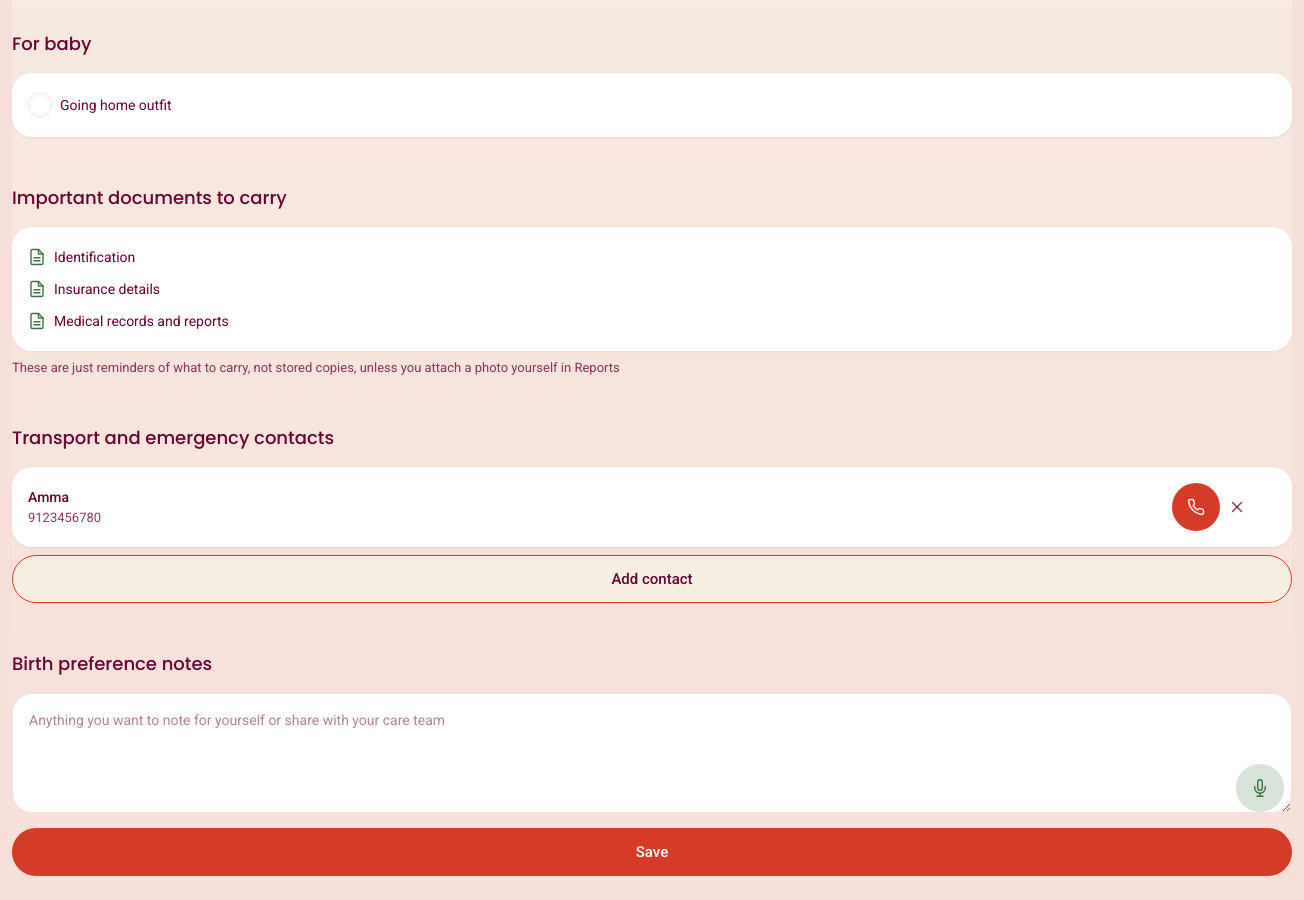
PrepChecklist › saves birth notes and shows a saved confirmation
(page scrolled)
Replace the text in the text box with placeholder "Anything you want to note for yourself or share with your care team" with "Would like skin-to-skin right after birth." at (652, 753), box x1=12 y1=693 x2=1292 y2=813
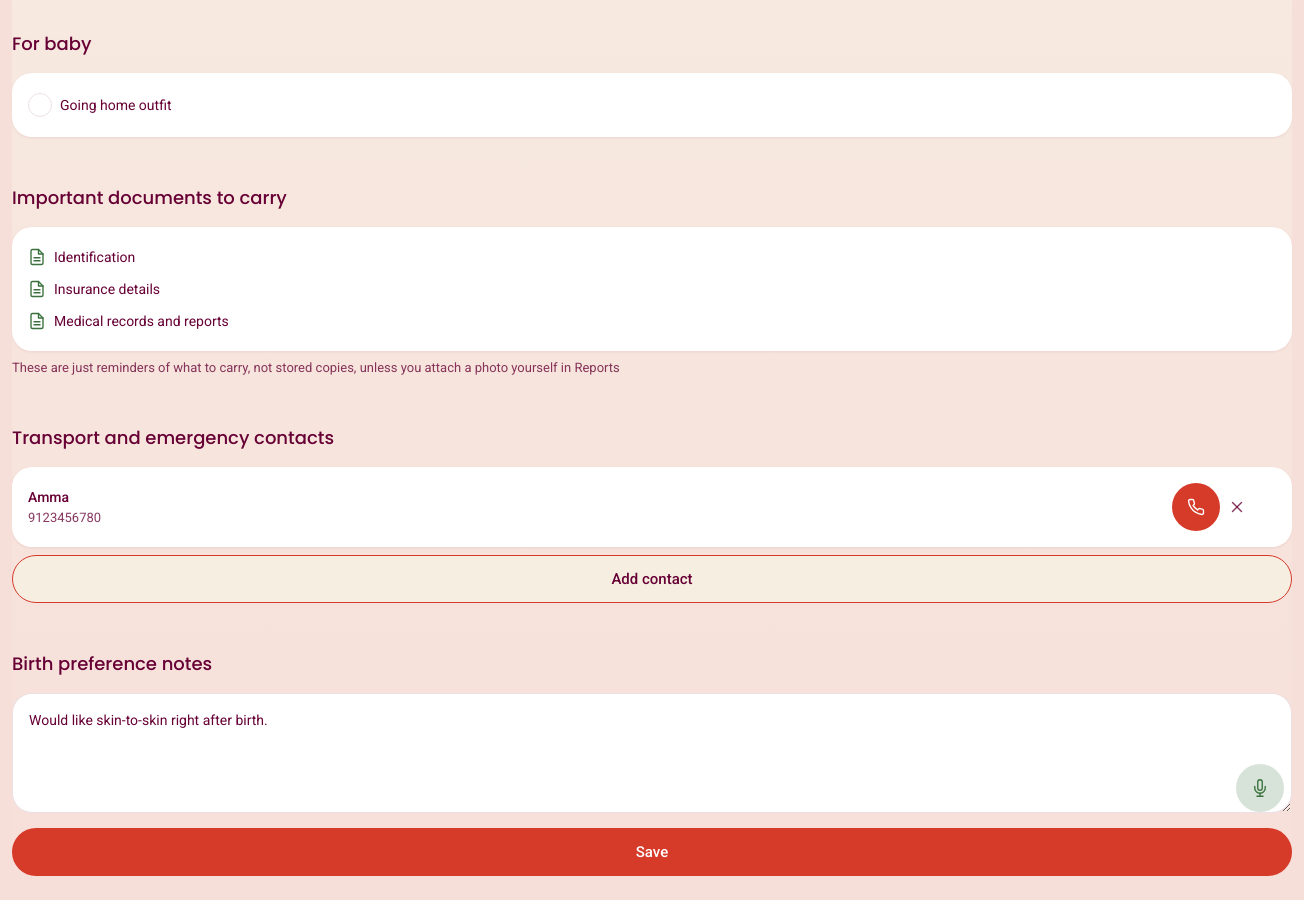
Click the button "Save".
click(652, 852)  # box x1=12 y1=828 x2=1292 y2=876
(page scrolled)
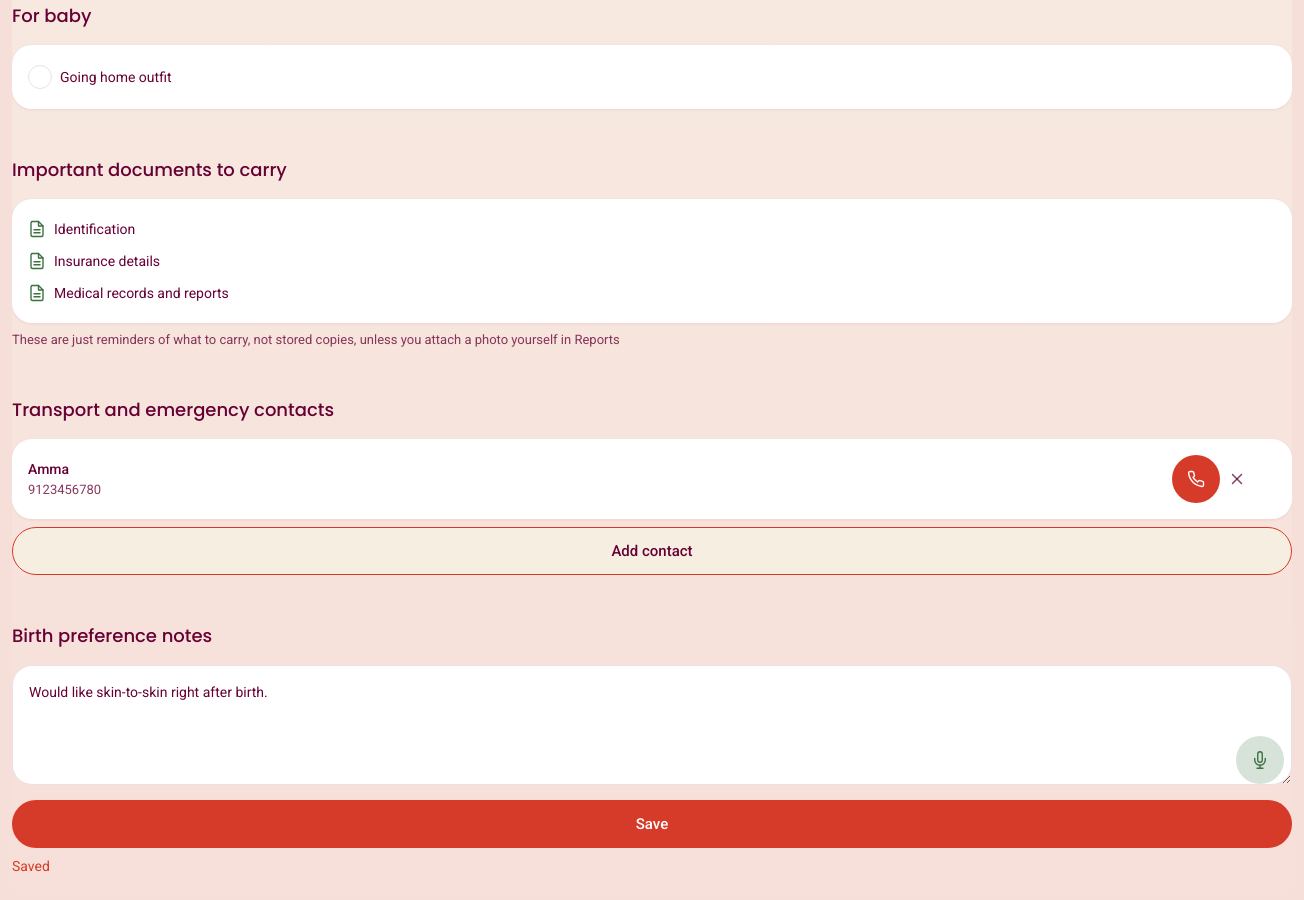
Check: the text "Saved" is shown, box x1=12 y1=858 x2=50 y2=874
